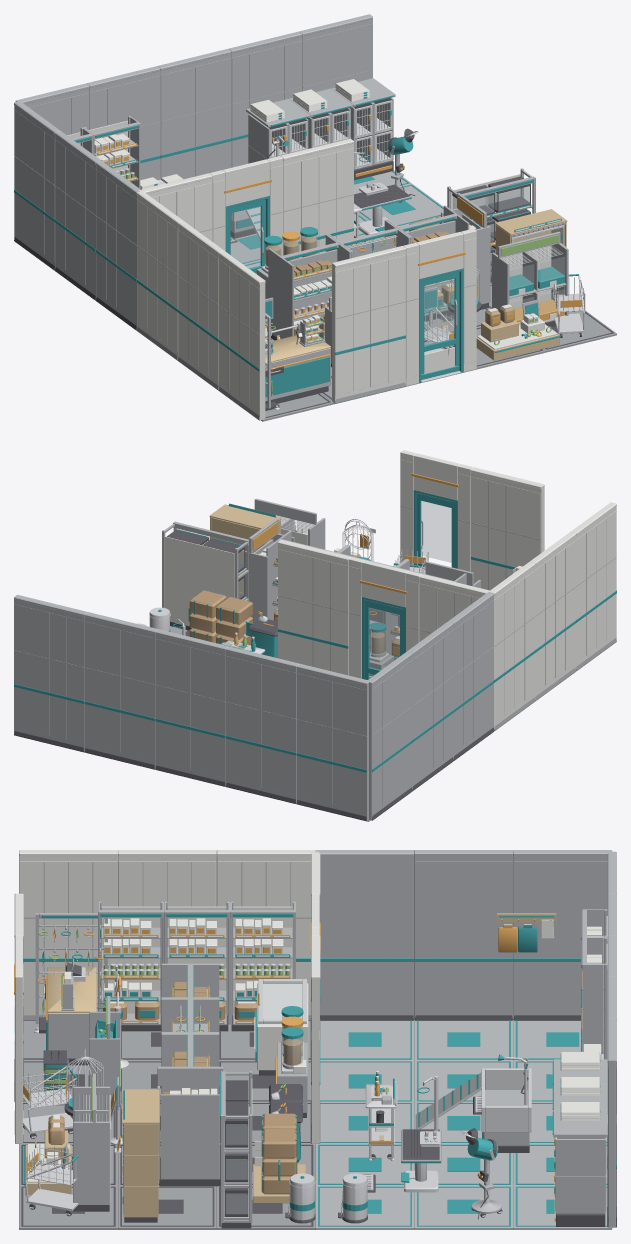
File: pet-shop-and-grooming-salon-pet-shop-and-61b4cc32-starter-scene__34605.glb
3 renders of one model, top to bottom at view 1: azimuth 30°, elevation 25°; view 2: azimuth 150°, elevation 25°; view 3: azimuth 270°, elevation 25°, orthographic. The views are drawn at different scales.
Visible parts, largest first — view 1: 030-shop-wall-panel-module/0, 037-salon-wall-panel-module/0, 040-shop-wall-panel-module/0, 034-shop-wall-panel-module/0, 044-salon-wall-panel-module/0, 045-salon-wall-panel-module/0, 043-salon-wall-panel-module/0, 042-shop-wall-panel-module/0, 041-shop-wall-panel-module/0, 038-salon-wall-panel-module/0, 031-shop-door-module/0, 036-salon-wall-panel-module/0 (+44 smaller); view 2: 035-salon-wall-panel-module/0, 038-salon-wall-panel-module/0, 037-salon-wall-panel-module/0, 036-salon-wall-panel-module/0, 039-salon-wall-panel-module/0, 034-shop-wall-panel-module/0, 030-shop-wall-panel-module/0, 045-salon-wall-panel-module/0, 044-salon-wall-panel-module/0, 040-shop-wall-panel-module/0, 043-salon-wall-panel-module/0, 042-shop-wall-panel-module/0 (+22 smaller); view 3: 044-salon-wall-panel-module/0, 043-salon-wall-panel-module/0, 045-salon-wall-panel-module/0, 040-shop-wall-panel-module/0, 042-shop-wall-panel-module/0, 049-gondola-end-cap/1, 041-shop-wall-panel-module/0, 074-drying-cage-bank/2, 056-reptile-vivarium-stack/1, 057-small-animal-habitat-unit/1, 004-salon-floor-tile/0, 003-salon-floor-tile/0 (+100 smaller).
Part boxes in pixels (x1,y1,x2,y2): 030-shop-wall-panel-module/0: [332, 246, 405, 403]; 037-salon-wall-panel-module/0: [157, 49, 231, 179]; 040-shop-wall-panel-module/0: [218, 251, 265, 420]; 034-shop-wall-panel-module/0: [280, 138, 353, 257]; 044-salon-wall-panel-module/0: [55, 131, 101, 298]; 045-salon-wall-panel-module/0: [14, 101, 60, 269]; 043-salon-wall-panel-module/0: [96, 161, 141, 328]; 042-shop-wall-panel-module/0: [136, 191, 183, 359]; 041-shop-wall-panel-module/0: [177, 221, 224, 389]; 038-salon-wall-panel-module/0: [228, 31, 302, 167]; 031-shop-door-module/0: [403, 228, 476, 386]; 036-salon-wall-panel-module/0: [86, 66, 160, 180]; 035-salon-wall-panel-module/0: [296, 664, 369, 820]; 038-salon-wall-panel-module/0: [84, 612, 158, 768]; 037-salon-wall-panel-module/0: [155, 629, 228, 786]; 036-salon-wall-panel-module/0: [226, 646, 299, 803]; 039-salon-wall-panel-module/0: [14, 595, 87, 751]; 034-shop-wall-panel-module/0: [277, 539, 350, 675]; 030-shop-wall-panel-module/0: [471, 467, 544, 590]; 045-salon-wall-panel-module/0: [367, 651, 412, 820]; 044-salon-wall-panel-module/0: [407, 622, 453, 789]; 040-shop-wall-panel-module/0: [570, 502, 616, 669]; 043-salon-wall-panel-module/0: [448, 592, 494, 759]; 042-shop-wall-panel-module/0: [490, 562, 535, 729]; 044-salon-wall-panel-module/0: [414, 850, 513, 1019]; 043-salon-wall-panel-module/0: [315, 850, 414, 1019]; 045-salon-wall-panel-module/0: [513, 850, 612, 1019]; 040-shop-wall-panel-module/0: [19, 850, 117, 1015]; 042-shop-wall-panel-module/0: [216, 850, 315, 1015]; 049-gondola-end-cap/1: [157, 1066, 223, 1179]; 041-shop-wall-panel-module/0: [118, 850, 216, 906]; 074-drying-cage-bank/2: [553, 1109, 607, 1213]; 056-reptile-vivarium-stack/1: [122, 1089, 159, 1217]; 057-small-animal-habitat-unit/1: [73, 1073, 109, 1204]; 004-salon-floor-tile/0: [414, 1020, 513, 1060]; 003-salon-floor-tile/0: [320, 1020, 414, 1060].
Size of the model in its own units: 7.62 by 2.84 by 9.15.
